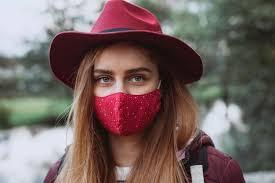cap: (41, 0, 207, 89)
mask: (87, 83, 174, 141)
